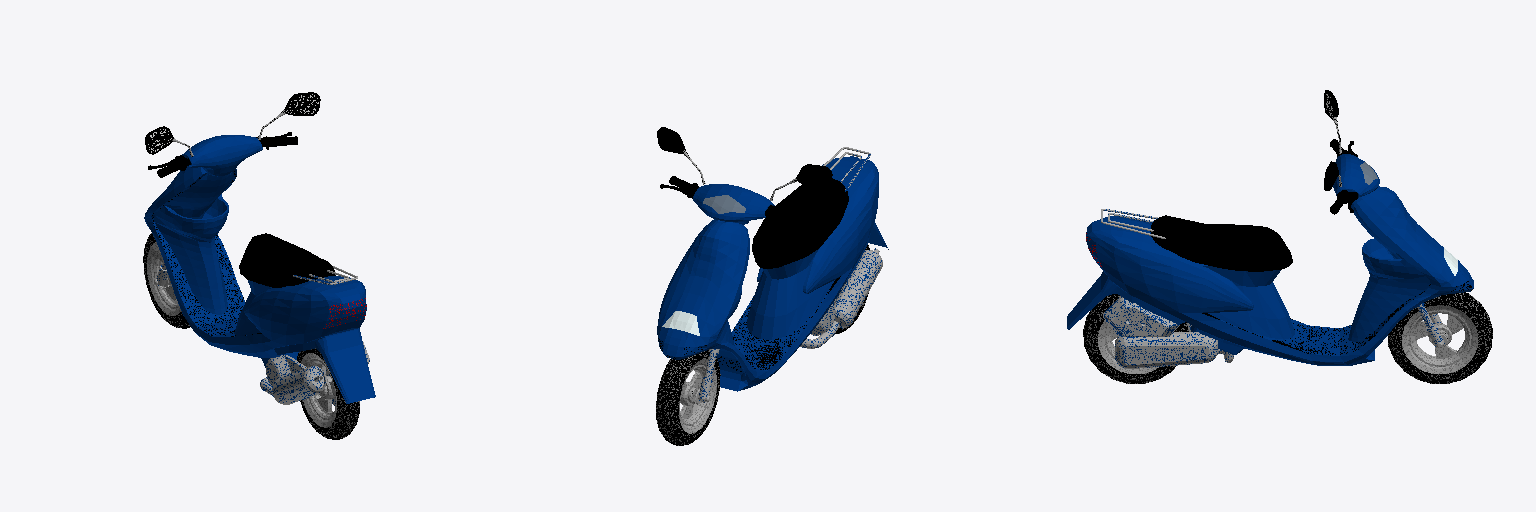
3 renders of one model, left to right at view 1: azimuth 30°, elevation 25°; view 2: azimuth 150°, elevation 25°; view 3: azimuth 270°, elevation 25°, orthographic.
Parts seen in each view (by area): view 1: model_normalized; view 2: model_normalized; view 3: model_normalized.
Boxes of the visible parts, <box> form: model_normalized: <box>143,92,375,439</box>; model_normalized: <box>656,127,888,445</box>; model_normalized: <box>1067,90,1492,383</box>.
Size of the model in its own units: 0.3679 by 0.5104 by 0.7773.